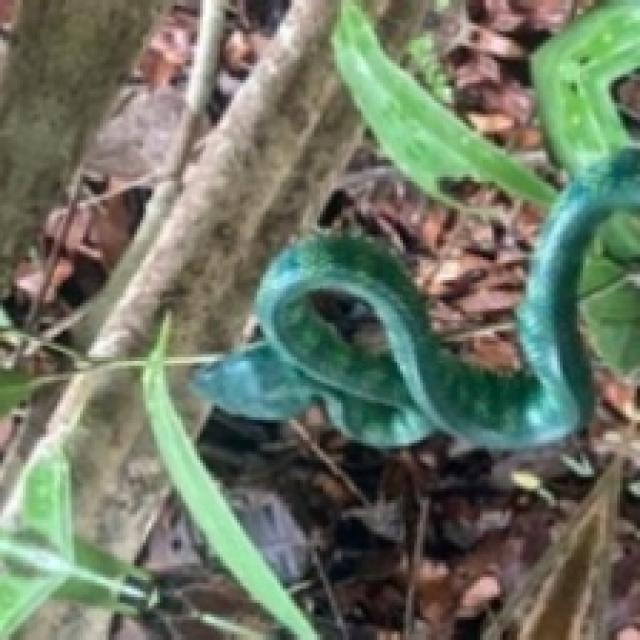north ph temple pitviper: (197, 3, 637, 446)
